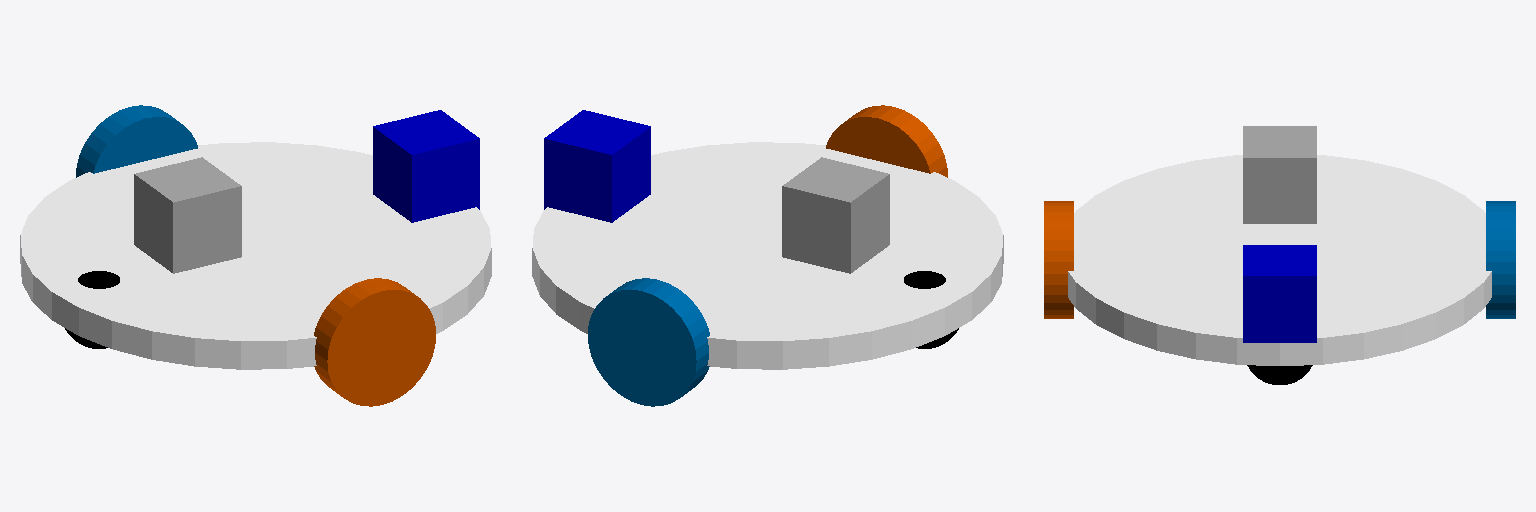
The robot description file, URDF, robot "differential_wheeled_robot":
<?xml version="1.0" ?>
<!-- =================================================================================== -->
<!-- |    This document was autogenerated by xacro from diff_wheeled_robot.xacro       | -->
<!-- |    EDITING THIS FILE BY HAND IS NOT RECOMMENDED                                 | -->
<!-- =================================================================================== -->
<robot name="differential_wheeled_robot" xmlns:xacro="http://www.ros.org/wiki/xacro">
  <!-- in kg-->
  <!-- Defining the colors used in this robot -->
  <material name="Black">
    <color rgba="0.0 0.0 0.0 1.0"/>
  </material>
  <material name="Red">
    <color rgba="0.8 0.0 0.0 1.0"/>
  </material>
  <material name="White">
    <color rgba="1.0 1.0 1.0 1.0"/>
  </material>
  <material name="Blue">
    <color rgba="0.0 0.0 0.8 1.0"/>
  </material>
  <!-- in kg-->
  <!-- in kg-->
  <!-- in kg-->
  <!-- Wheels -->
   --&gt; 
  <!-- in kg-->
  <!-- BASE-FOOTPRINT -->
  <!-- base_footprint is a fictitious link(frame) that is on the ground right below base_link origin -->
  <link name="base_footprint">
    <inertial>
      <mass value="0.0001"/>
      <origin xyz="0 0 0"/>
      <inertia ixx="0.0001" ixy="0.0" ixz="0.0" iyy="0.0001" iyz="0.0" izz="0.0001"/>
    </inertial>
    <visual>
      <origin rpy="0 0 0" xyz="0 0 0"/>
      <geometry>
        <box size="0.001 0.001 0.001"/>
      </geometry>
    </visual>
  </link>
  <gazebo reference="base_footprint">
    <turnGravityOff>false</turnGravityOff>
  </gazebo>
  <joint name="base_footprint_joint" type="fixed">
    <origin rpy="0 0 0" xyz="0 0 0.04"/>
    <parent link="base_footprint"/>
    <child link="base_link"/>
  </joint>
  <!-- BASE-LINK -->
  <!--Actual body/chassis of the robot-->
  <link name="base_link">
    <inertial>
      <mass value="5"/>
      <origin xyz="0 0 0"/>
      <inertia ixx="0.0282916666667" ixy="0" ixz="0" iyy="0.0282916666667" iyz="0" izz="0.05625"/>
    </inertial>
    <visual>
      <origin rpy="0 0 0" xyz="0 0 0"/>
      <geometry>
        <cylinder length="0.02" radius="0.15"/>
      </geometry>
      <material name="White"/>
    </visual>
    <collision>
      <origin rpy="0 0 0 " xyz="0 0 0"/>
      <geometry>
        <cylinder length="0.02" radius="0.15"/>
      </geometry>
    </collision>
  </link>
  <gazebo reference="base_link">
    <material>Gazebo/White</material>
    <turnGravityOff>false</turnGravityOff>
  </gazebo>
  <!--Caster front  -->
  <link name="caster_front_link">
    <visual>
      <origin rpy="1.57079632679 0 0" xyz="0 0.02 0"/>
      <geometry>
        <sphere radius="0.025"/>
      </geometry>
      <material name="Black"/>
    </visual>
    <collision>
      <geometry>
        <sphere radius="0.025"/>
      </geometry>
      <origin rpy="1.57079632679 0 0" xyz="0 0.02 0"/>
    </collision>
    <inertial>
      <mass value="0.5"/>
      <origin xyz="0 0 0"/>
      <inertia ixx="0.001" ixy="0.0" ixz="0.0" iyy="0.001" iyz="0.0" izz="0.001"/>
    </inertial>
  </link>
  <joint name="caster_front_joint" type="fixed">
    <parent link="base_link"/>
    <child link="caster_front_link"/>
    <origin rpy="-1.57079632679 0 0" xyz="0.115 0.0 0.007"/>
  </joint>
  <gazebo reference="caster_front_link">
    <turnGravityOff>false</turnGravityOff>
  </gazebo>
  <!--Caster back  -->
  <link name="caster_back_link">
    <visual>
      <origin rpy="1.57079632679 0 0" xyz="0.02 0.02 0 "/>
      <geometry>
        <sphere radius="0.025"/>
      </geometry>
      <material name="Black"/>
    </visual>
    <collision>
      <geometry>
        <sphere radius="0.025"/>
      </geometry>
      <origin rpy="1.57079632679 0 0" xyz="0 0.02 0 "/>
    </collision>
    <inertial>
      <mass value="0.5"/>
      <origin xyz="0 0 0"/>
      <inertia ixx="0.001" ixy="0.0" ixz="0.0" iyy="0.001" iyz="0.0" izz="0.001"/>
    </inertial>
  </link>
  <joint name="caster_back_joint" type="fixed">
    <parent link="base_link"/>
    <child link="caster_back_link"/>
    <origin rpy="-1.57079632679 0 0" xyz="-0.135 0.0 0.009"/>
  </joint>
  <gazebo reference="caster_back_link">
    <turnGravityOff>false</turnGravityOff>
  </gazebo>
  <!-- Wheel Definitions -->
  <!--fb : front, back ; lr: left, right -->
  <link name="front_right_wheel">
    <visual>
      <origin rpy="1.57079632679 0  0 " xyz="0 0 0"/>
      <geometry>
        <cylinder length="0.02" radius="0.04"/>
      </geometry>
      <material name="DarkGray"/>
    </visual>
    <collision>
      <origin rpy="1.57079632679 0 0 " xyz="0 0 0"/>
      <geometry>
        <cylinder length="0.02" radius="0.04"/>
      </geometry>
    </collision>
    <inertial>
      <mass value="2.5"/>
      <origin xyz="0 0 0"/>
      <inertia ixx="0.00108333333333" ixy="0" ixz="0" iyy="0.00108333333333" iyz="0" izz="0.002"/>
    </inertial>
  </link>
  <gazebo reference="front_right_wheel">
    <mu1 value="1.0"/>
    <mu2 value="1.0"/>
    <kp value="10000000.0"/>
    <kd value="1.0"/>
    <fdir1 value="1 0 0"/>
    <material>Gazebo/Grey</material>
    <turnGravityOff>false</turnGravityOff>
  </gazebo>
  <joint name="front_right_wheel_joint" type="continuous">
    <parent link="base_link"/>
    <child link="front_right_wheel"/>
    <origin rpy="0 0 0" xyz="0.0 0.15 0.0"/>
    <axis rpy="0  0" xyz="0 1 0"/>
    <limit effort="100" velocity="100"/>
    <joint_properties damping="0.0" friction="0.0"/>
  </joint>
  <!-- Transmission is important to link the joints and the controller -->
  <transmission name="front_right_wheel_joint_trans">
    <type>transmission_interface/SimpleTransmission</type>
    <joint name="front_right_wheel_joint"/>
    <actuator name="front_right_wheel_joint_motor">
      <hardwareInterface>EffortJointInterface</hardwareInterface>
      <mechanicalReduction>1</mechanicalReduction>
    </actuator>
  </transmission>
  <!--fb : front, back ; lr: left, right -->
  <link name="front_left_wheel">
    <visual>
      <origin rpy="1.57079632679 0  0 " xyz="0 0 0"/>
      <geometry>
        <cylinder length="0.02" radius="0.04"/>
      </geometry>
      <material name="DarkGray"/>
    </visual>
    <collision>
      <origin rpy="1.57079632679 0 0 " xyz="0 0 0"/>
      <geometry>
        <cylinder length="0.02" radius="0.04"/>
      </geometry>
    </collision>
    <inertial>
      <mass value="2.5"/>
      <origin xyz="0 0 0"/>
      <inertia ixx="0.00108333333333" ixy="0" ixz="0" iyy="0.00108333333333" iyz="0" izz="0.002"/>
    </inertial>
  </link>
  <gazebo reference="front_left_wheel">
    <mu1 value="1.0"/>
    <mu2 value="1.0"/>
    <kp value="10000000.0"/>
    <kd value="1.0"/>
    <fdir1 value="1 0 0"/>
    <material>Gazebo/Grey</material>
    <turnGravityOff>false</turnGravityOff>
  </gazebo>
  <joint name="front_left_wheel_joint" type="continuous">
    <parent link="base_link"/>
    <child link="front_left_wheel"/>
    <origin rpy="0 0 0" xyz="0.0 -0.15 0.0"/>
    <axis rpy="0  0" xyz="0 1 0"/>
    <limit effort="100" velocity="100"/>
    <joint_properties damping="0.0" friction="0.0"/>
  </joint>
  <!-- Transmission is important to link the joints and the controller -->
  <transmission name="front_left_wheel_joint_trans">
    <type>transmission_interface/SimpleTransmission</type>
    <joint name="front_left_wheel_joint"/>
    <actuator name="front_left_wheel_joint_motor">
      <hardwareInterface>EffortJointInterface</hardwareInterface>
      <mechanicalReduction>1</mechanicalReduction>
    </actuator>
  </transmission>
  <!-- SENSORS -->
  <!-- hokuyo -->
  <link name="hokuyo_link">
    <visual>
      <origin rpy="0 0 0" xyz="0 0 0"/>
      <geometry>
        <box size="0.05 0.05 0.05"/>
      </geometry>
      <material name="Blue"/>
    </visual>
  </link>
  <joint name="hokuyo_joint" type="fixed">
    <origin rpy="0 0 0" xyz="0.125 0 0.0325"/>
    <parent link="base_link"/>
    <child link="hokuyo_link"/>
  </joint>
  <gazebo reference="hokuyo_link">
    <material>Gazebo/Blue</material>
    <turnGravityOff>false</turnGravityOff>
    <sensor name="head_hokuyo_sensor" type="gpu_ray">
      <pose>0.025 0 0 0 0 0</pose>
      <visualize>true</visualize>
      <update_rate>40</update_rate>
      <ray>
        <scan>
          <horizontal>
            <samples>720</samples>
            <resolution>1</resolution>
            <min_angle>-1.5708</min_angle>
            <max_angle>1.5708</max_angle>
          </horizontal>
        </scan>
        <range>
          <min>0.10</min>
          <max>10.0</max>
          <resolution>0.001</resolution>
        </range>
      </ray>
      <plugin filename="libgazebo_ros_laser.so" name="gazebo_ros_head_hokuyo_controller">
        <topicName>/scan_ilyess</topicName>
        <frameName>hokuyo_link</frameName>
      </plugin>
    </sensor>
  </gazebo>
  <!-- Differential drive controller-->
  <gazebo>
    <plugin filename="libgazebo_ros_diff_drive.so" name="differential_drive_controller">
      <rosDebugLevel>Debug</rosDebugLevel>
      <publishWheelTF>false</publishWheelTF>
      <robotNamespace>/</robotNamespace>
      <publishTf>1</publishTf>
      <publishWheelJointState>false</publishWheelJointState>
      <alwaysOn>true</alwaysOn>
      <updateRate>100.0</updateRate>
      <leftJoint>front_left_wheel_joint</leftJoint>
      <rightJoint>front_right_wheel_joint</rightJoint>
      <wheelSeparation>0.3</wheelSeparation>
      <wheelDiameter>0.08</wheelDiameter>
      <broadcastTF>1</broadcastTF>
      <wheelTorque>30</wheelTorque>
      <wheelAcceleration>1.8</wheelAcceleration>
      <commandTopic>/ilyess/cmd_vel</commandTopic>
      <odometryFrame>odom</odometryFrame>
      <odometryTopic>odom</odometryTopic>
      <robotBaseFrame>base_footprint</robotBaseFrame>
    </plugin>
  </gazebo>
  <joint name="camera_joint" type="fixed">
    <axis xyz="0 1 0"/>
    <origin rpy="0 0 0" xyz="-0.05 0 0.08"/>
    <parent link="base_footprint"/>
    <child link="camera_link"/>
  </joint>
  <!-- Camera -->
  <link name="camera_link">
    <collision>
      <origin rpy="0 0 0" xyz="0 0 0"/>
      <geometry>
        <box size="0.05 0.05 0.05"/>
      </geometry>
    </collision>
    <visual>
      <origin rpy="0 0 0" xyz="0 0 0"/>
      <geometry>
        <box size="0.05 0.05 0.05"/>
      </geometry>
      <material name="red"/>
    </visual>
    <inertial>
      <mass value="1e-5"/>
      <origin rpy="0 0 0" xyz="0 0 0"/>
      <inertia ixx="1e-6" ixy="0" ixz="0" iyy="1e-6" iyz="0" izz="1e-6"/>
    </inertial>
  </link>
  <gazebo reference="camera_link">
    <sensor name="camera1" type="camera">
      <update_rate>30.0</update_rate>
      <camera name="head">
        <horizontal_fov>1.3962634</horizontal_fov>
        <image>
          <width>800</width>
          <height>800</height>
          <format>R8G8B8</format>
        </image>
        <clip>
          <near>0.02</near>
          <far>300</far>
        </clip>
        <noise>
          <type>gaussian</type>
          <!-- Noise is sampled independently per pixel on each frame.
               That pixel's noise value is added to each of its color
               channels, which at that point lie in the range [0,1]. -->
          <mean>0.0</mean>
          <stddev>0.007</stddev>
        </noise>
      </camera>
      <plugin filename="libgazebo_ros_camera.so" name="camera_controller">
        <alwaysOn>true</alwaysOn>
        <updateRate>0.0</updateRate>
        <cameraName>rrbot/camera1</cameraName>
        <imageTopicName>image_raw</imageTopicName>
        <cameraInfoTopicName>camera_info</cameraInfoTopicName>
        <frameName>camera_link</frameName>
        <hackBaseline>0.07</hackBaseline>
        <distortionK1>0.0</distortionK1>
        <distortionK2>0.0</distortionK2>
        <distortionK3>0.0</distortionK3>
        <distortionT1>0.0</distortionT1>
        <distortionT2>0.0</distortionT2>
      </plugin>
    </sensor>
  </gazebo>
</robot>

--- Render facts (derived) ---
The picture shows the robot from 3 angles, left to right: view 1: azimuth 30°, elevation 25°; view 2: azimuth 150°, elevation 25°; view 3: azimuth 270°, elevation 25°; orthographic projection.
Robot: differential_wheeled_robot — 8 links, 7 joints (2 continuous, 5 fixed); root link base_footprint; default pose: every joint at zero.
Links seen in each view (by area): view 1: base_link, front_left_wheel, camera_link, hokuyo_link, front_right_wheel, caster_back_link; view 2: base_link, front_right_wheel, camera_link, hokuyo_link, front_left_wheel, caster_back_link; view 3: base_link, hokuyo_link, camera_link, front_right_wheel, front_left_wheel, caster_front_link.
Link boxes in pixels (<box>): base_link: <box>20,142,491,369</box>; front_left_wheel: <box>314,278,435,406</box>; camera_link: <box>134,157,241,273</box>; hokuyo_link: <box>373,110,479,222</box>; front_right_wheel: <box>76,105,197,177</box>; caster_back_link: <box>65,271,119,348</box>; base_link: <box>532,142,1003,369</box>; front_right_wheel: <box>588,278,709,406</box>; camera_link: <box>782,157,889,273</box>; hokuyo_link: <box>544,110,650,222</box>; front_left_wheel: <box>826,105,947,177</box>; caster_back_link: <box>904,271,958,348</box>; base_link: <box>1068,155,1491,365</box>; hokuyo_link: <box>1243,245,1316,342</box>; camera_link: <box>1243,126,1316,223</box>; front_right_wheel: <box>1486,201,1515,318</box>; front_left_wheel: <box>1044,201,1073,318</box>; caster_front_link: <box>1247,365,1312,384</box>.
Bounding box of the posed robot: 0.3 × 0.32 × 0.1055 m (x, y, z).
Geometry: primitives only (box / cylinder / sphere), no mesh files.
